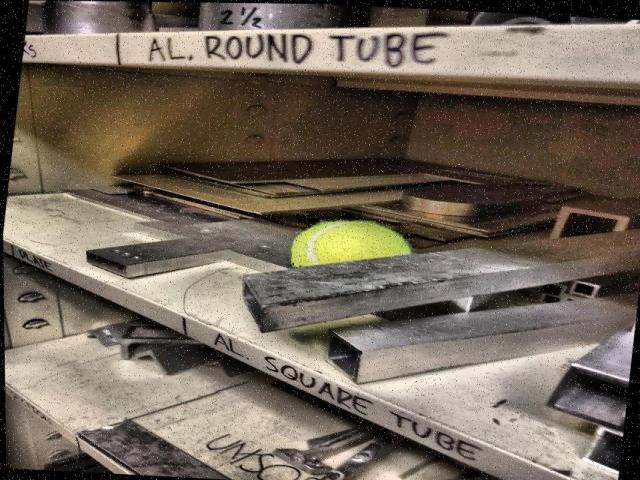tennis-ball: (288, 216, 422, 267)
